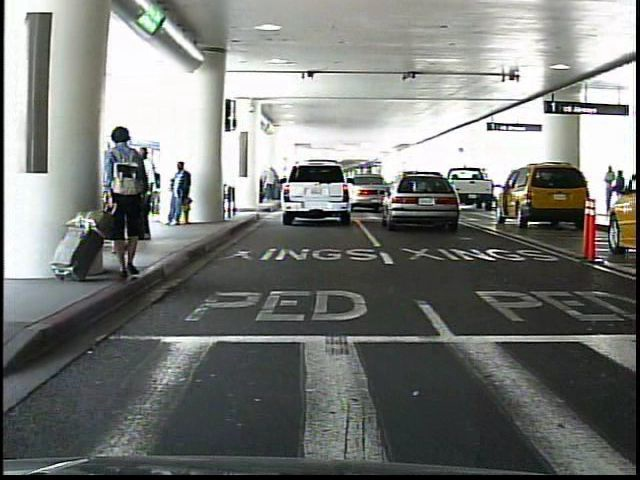person: (105, 124, 155, 283), (131, 145, 159, 239), (169, 157, 194, 227), (608, 166, 626, 211), (600, 164, 615, 213)
